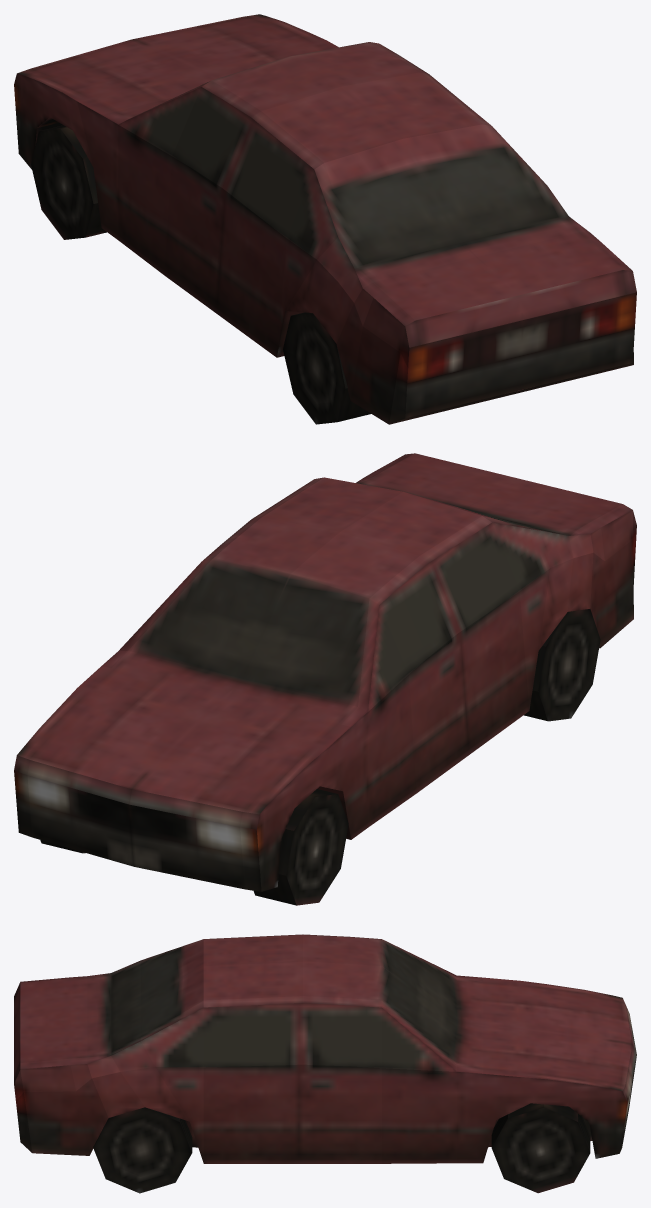
File: Car_1_R.fbx
3 renders of one model, top to bottom at view 1: azimuth 30°, elevation 25°; view 2: azimuth 150°, elevation 25°; view 3: azimuth 270°, elevation 25°, orthographic. The views are drawn at different scales.
Visible parts, largest first — view 1: Car_1_R; view 2: Car_1_R; view 3: Car_1_R.
Part boxes in pixels (x1=…): Car_1_R: x1=14, y1=14, x2=636, y2=424; Car_1_R: x1=14, y1=453, x2=636, y2=905; Car_1_R: x1=14, y1=934, x2=636, y2=1193.
Size of the model in its own units: 194 by 168 by 520.
Materials: 1 (1 with a texture image).
